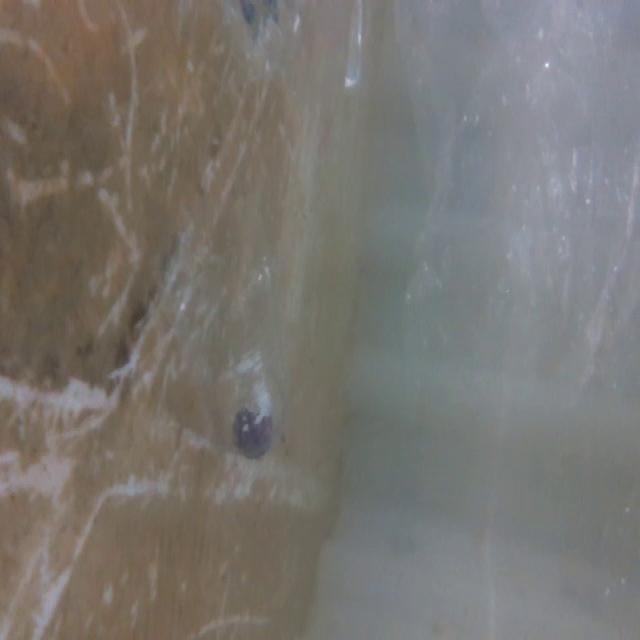plastic bags: (402, 0, 606, 414), (194, 0, 318, 92)
plastic bottle: (144, 186, 292, 461)
